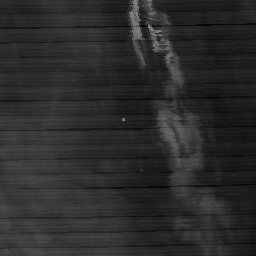Target: (120, 115, 126, 122)
